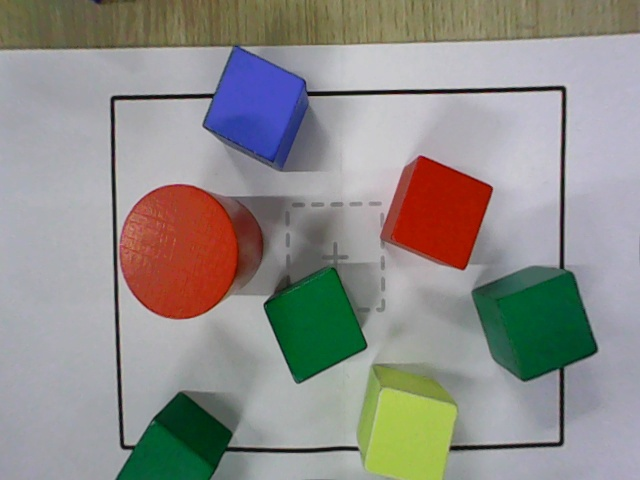upside of cylinder: (119, 184, 238, 320)
upside of small cube: (202, 47, 307, 162), (390, 155, 494, 271), (264, 269, 367, 386), (497, 271, 598, 381), (362, 387, 458, 479), (114, 419, 218, 479)
